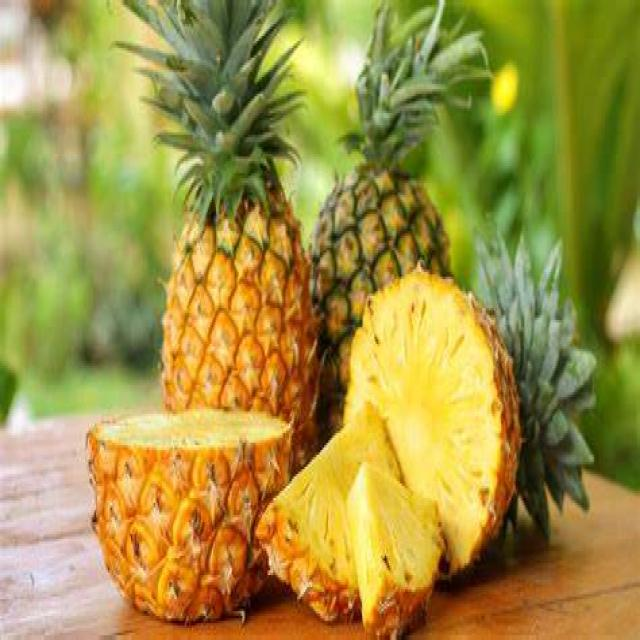Pineapple: (277, 238, 594, 630), (119, 0, 331, 421), (317, 1, 487, 312), (88, 398, 289, 618)
